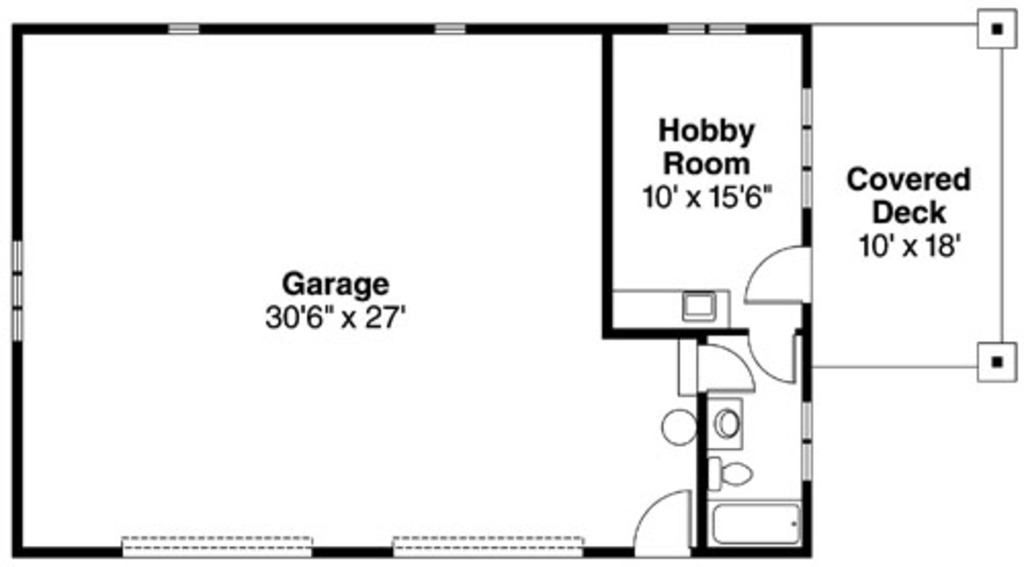door: (621, 483, 692, 556), (740, 246, 816, 305), (748, 330, 797, 382), (702, 345, 757, 390)
large_sink: (712, 454, 762, 490)
small_sink: (708, 393, 750, 450)
tub: (701, 501, 803, 546)
window: (392, 527, 586, 559), (116, 530, 312, 557), (11, 239, 26, 340), (801, 88, 811, 203), (669, 23, 745, 35), (171, 25, 204, 33)
